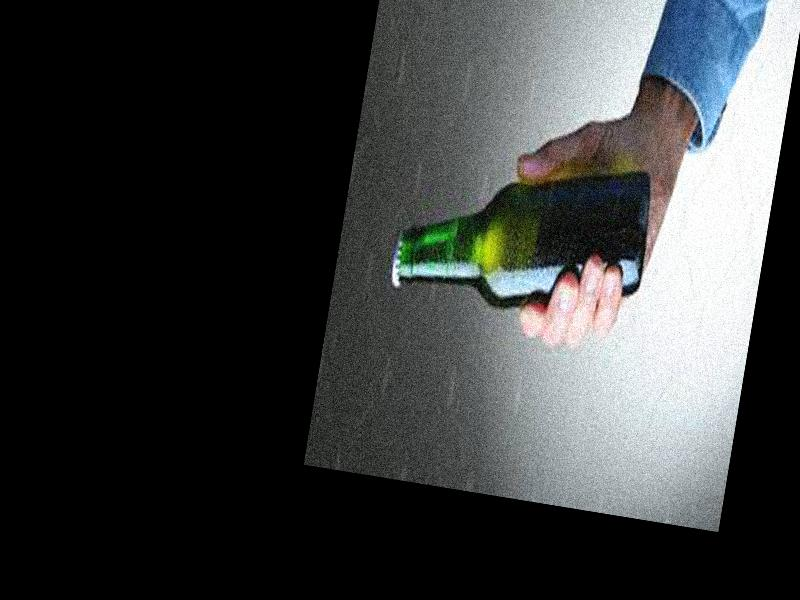Beer: (385, 131, 660, 328)
